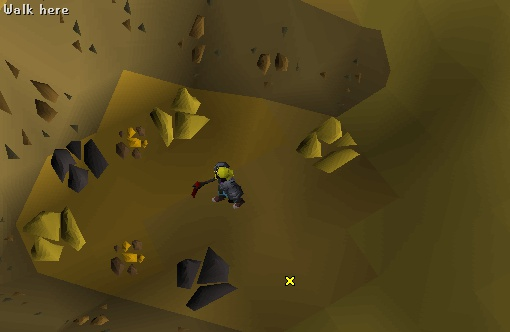depleted: (159, 246, 255, 319), (36, 130, 132, 203)
gold: (292, 111, 374, 185), (137, 83, 219, 157)
